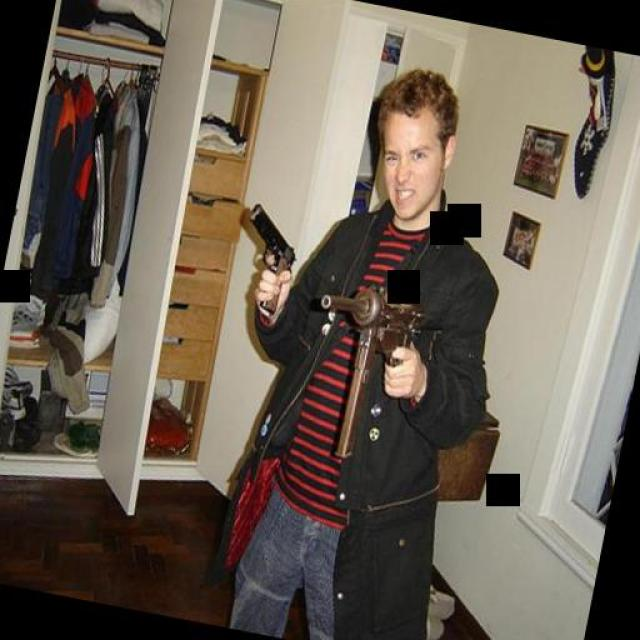gun: (228, 196, 302, 315)
